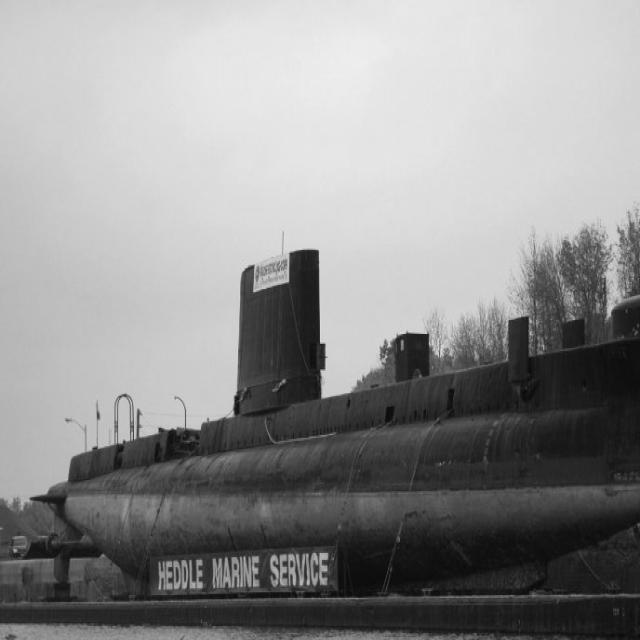submarine: (31, 248, 640, 575)
